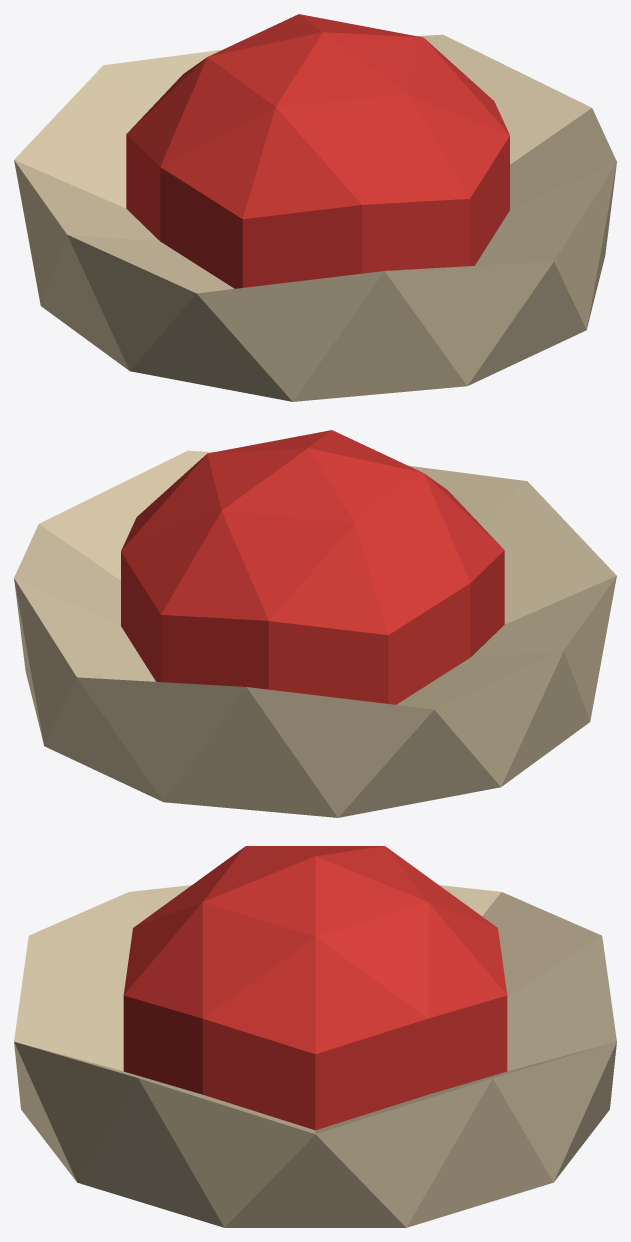
File: alarm lamp.fbx
The picture shows the model from 3 angles, top to bottom: view 1: azimuth 30°, elevation 25°; view 2: azimuth 150°, elevation 25°; view 3: azimuth 270°, elevation 25°; orthographic projection. The views are drawn at different scales.
Parts seen in each view (by area): view 1: Icosphere; view 2: Icosphere; view 3: Icosphere.
Part boxes in pixels (x1,y1,x2,y2): Icosphere: [14, 14, 616, 401]; Icosphere: [14, 430, 616, 817]; Icosphere: [14, 846, 616, 1227].
Size of the model in its own units: 210 by 94.98 by 205.
